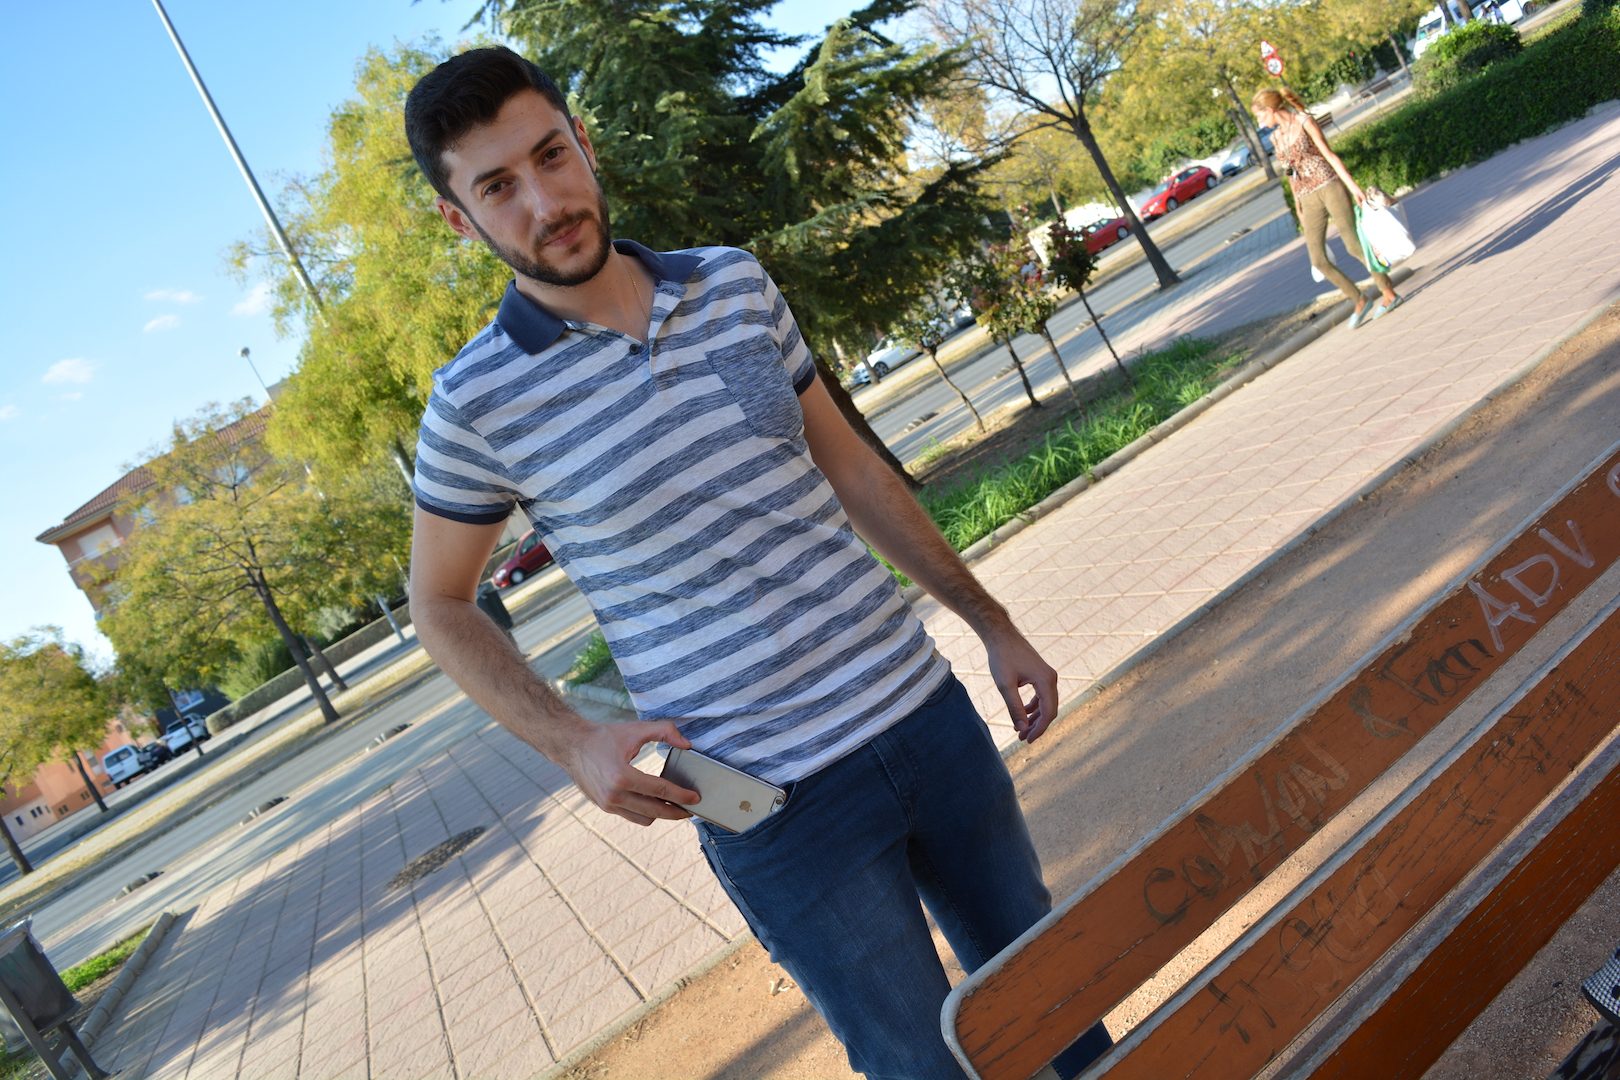smartphone: (658, 746, 788, 835)
